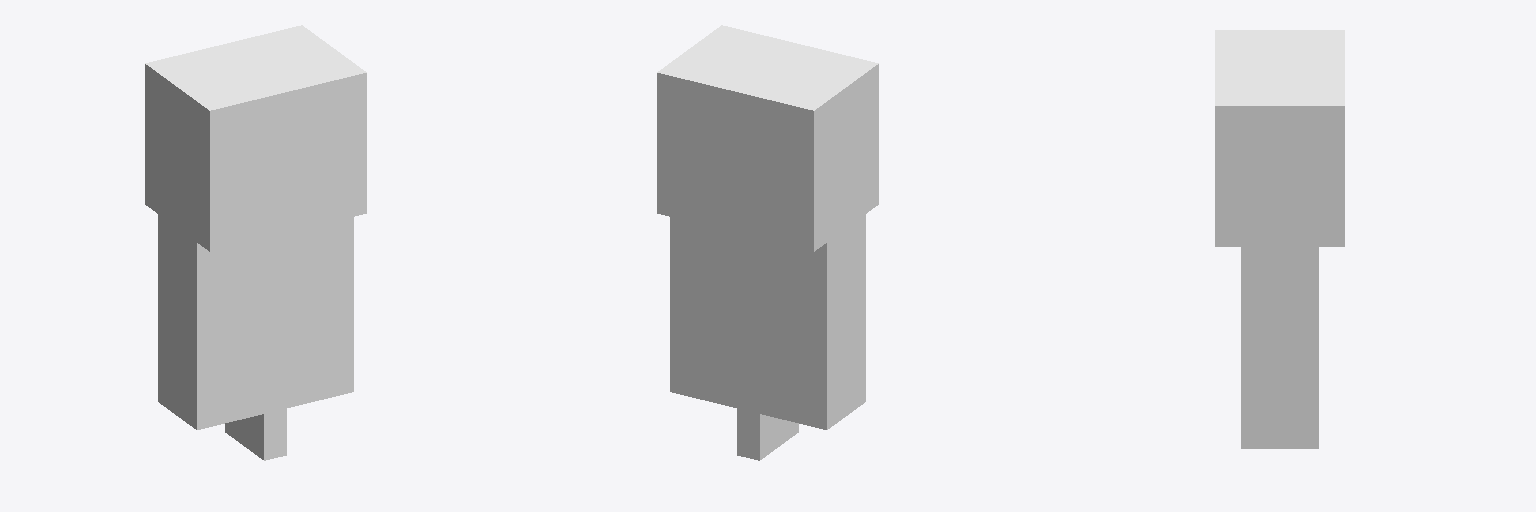
The model's file is Franky_Bo.obj.
The picture shows the model from 3 angles: view 1: azimuth 30°, elevation 25°; view 2: azimuth 150°, elevation 25°; view 3: azimuth 270°, elevation 25°; orthographic projection.
Parts seen in each view (by area): view 1: object 1; view 2: object 1; view 3: object 1.
Boxes of the visible parts, x1=… form: object 1: x1=145, y1=25, x2=366, y2=460; object 1: x1=657, y1=25, x2=878, y2=460; object 1: x1=1215, y1=30, x2=1344, y2=448.
Bounding box in the file's own units: 0.7 × 1.6 × 0.5.